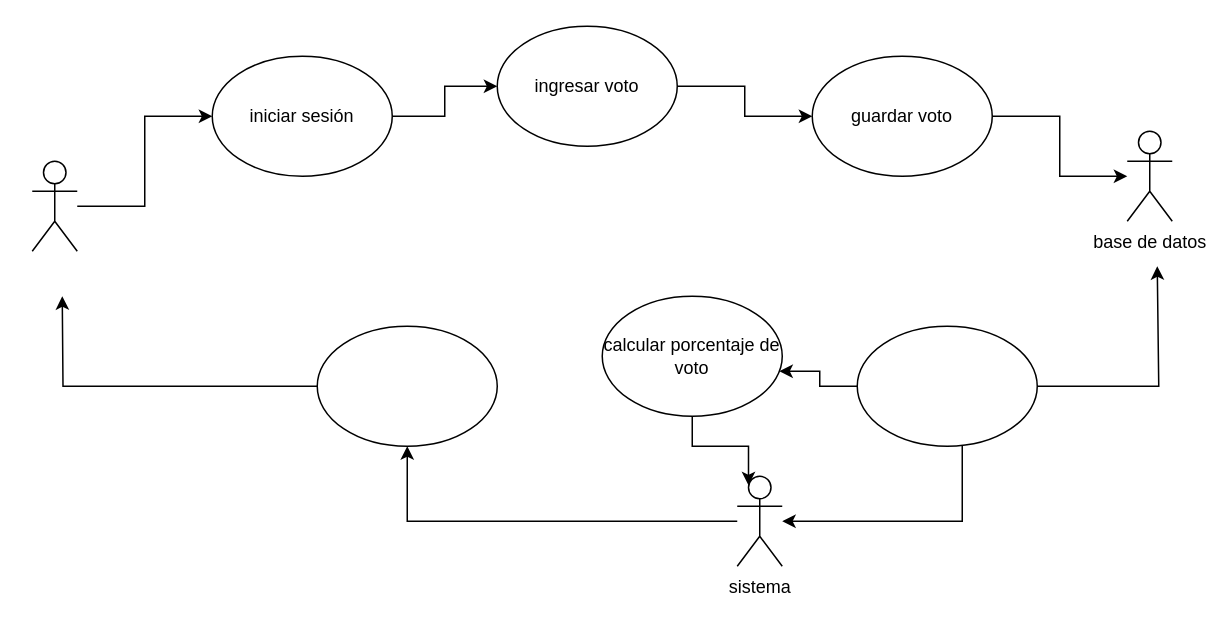
Image size: 1232x624. Some labels were removed from this diagram. The shapes that lost their labels are listed below. From the top down, each one's centre as x and y in pixels, then its label:
point (54, 205): votante
point (406, 385): dar certificado de votacion
point (946, 385): registrar voto en el sistema
